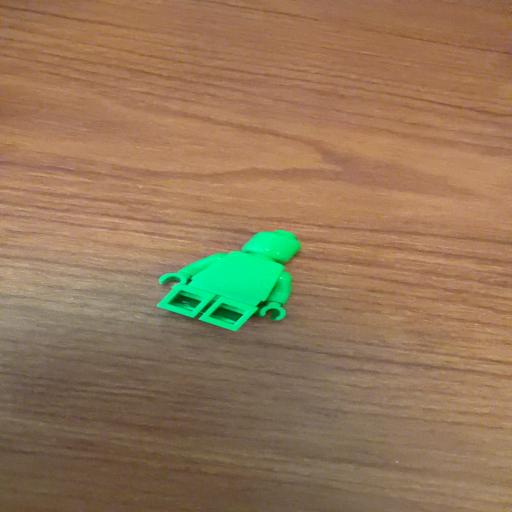UnoQ-minifig-detector: (157, 230, 300, 331)
